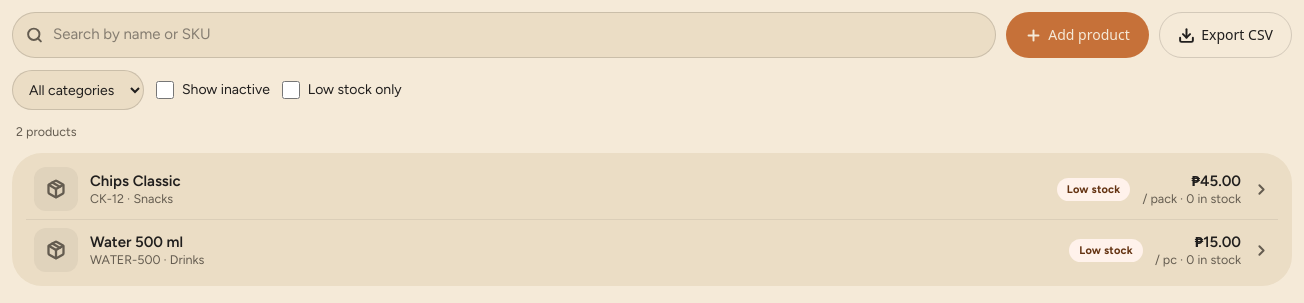
Products list › filters by search and by category
Type "water" into the search field labelled "Search by name or SKU" at (504, 35), box [12,12,996,58]
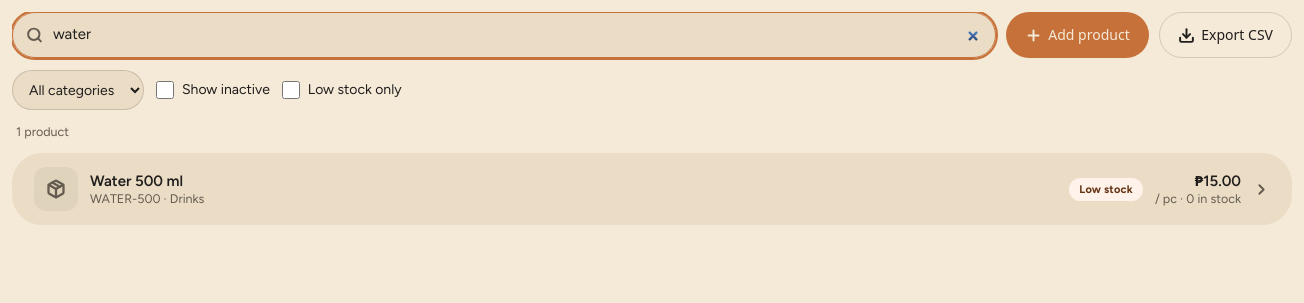
Expected: the text "Water 500 ml" is shown, [90,172,183,190]
Result: the link "Chips Classic" is gone
Clear the search field named "Search by name or SKU" at (504, 35), box [12,12,996,58]
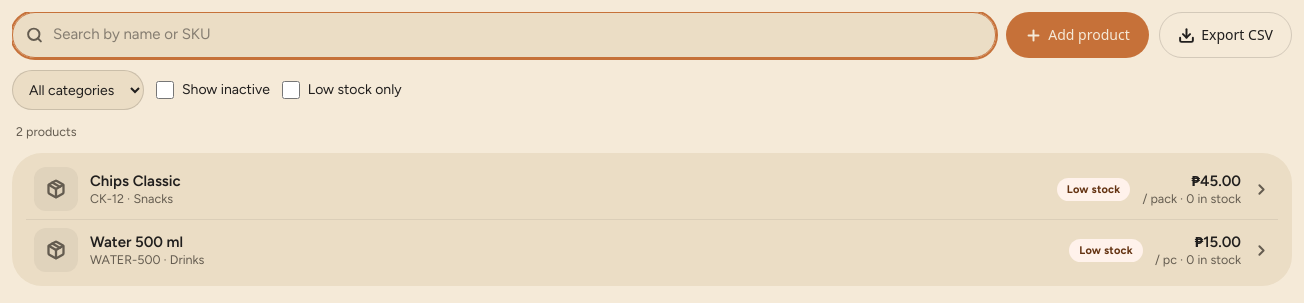
Select "Snacks" in the dropdown named "Category" at (78, 90), box [12,70,144,110]
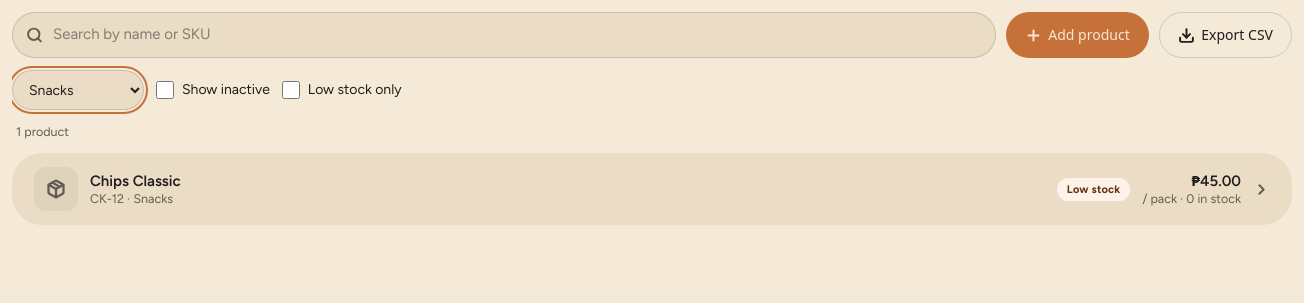
Result: the text "Chips Classic" is shown at [90,172,181,190]
Result: the link "Water 500 ml" is gone
